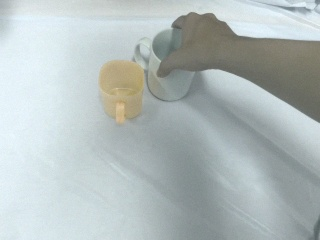cup: (133, 25, 183, 103), (98, 60, 145, 125)
